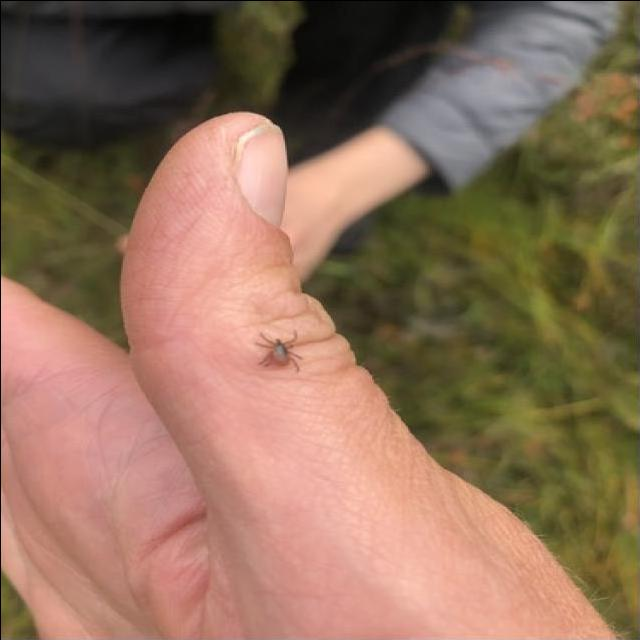Ixodes Ricinus-F: (254, 323, 300, 375)
